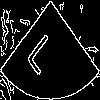L: (25, 25, 63, 77)
